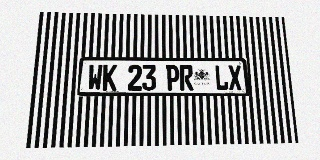2: (128, 64, 142, 91)
3: (142, 65, 156, 90)
K: (102, 64, 117, 91)
L: (214, 65, 229, 90)
P: (166, 65, 180, 90)
R: (179, 65, 194, 90)
W: (87, 64, 103, 91)
X: (228, 65, 242, 90)
